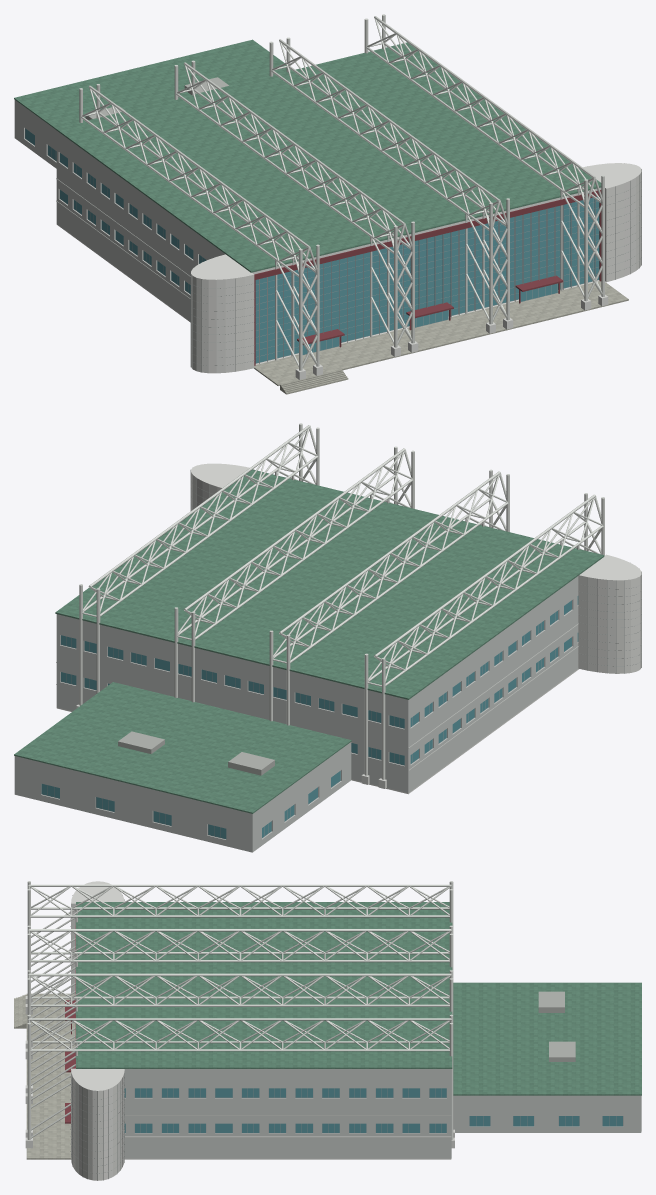
The picture shows the model from 3 angles, top to bottom: view 1: azimuth 30°, elevation 25°; view 2: azimuth 150°, elevation 25°; view 3: azimuth 270°, elevation 25°; orthographic projection. The views are drawn at different scales.
Visible parts, largest first — view 1: gym__roof, gym__steel, gym__glass, gym__stone, gym__wall, gym__threshold-front, gym__frame, gym__red, gym__joint, gym__stair-front; view 2: gym__roof, gym__wall, gym__steel, gym__stone, gym__glass, gym__frame, gym__plantwall, gym__joint; view 3: gym__roof, gym__steel, gym__wall, gym__stone, gym__threshold-front, gym__glass, gym__frame, gym__joint, gym__plantwall, gym__red.
Boxes of the visible parts, x1,y1,x2,y2 form: gym__roof: [14, 39, 601, 272]; gym__steel: [56, 14, 604, 370]; gym__glass: [25, 128, 599, 363]; gym__stone: [56, 163, 641, 379]; gym__wall: [14, 100, 225, 321]; gym__threshold-front: [254, 281, 628, 385]; gym__frame: [25, 128, 598, 363]; gym__red: [254, 190, 601, 365]; gym__joint: [190, 169, 641, 372]; gym__stair-front: [280, 369, 348, 394]; gym__roof: [14, 469, 604, 813]; gym__wall: [14, 576, 578, 852]; gym__steel: [56, 423, 604, 779]; gym__stone: [56, 463, 641, 794]; gym__glass: [41, 596, 578, 838]; gym__frame: [41, 600, 572, 839]; gym__plantwall: [118, 731, 274, 775]; gym__joint: [190, 470, 641, 673]; gym__roof: [76, 902, 641, 1095]; gym__steel: [27, 881, 453, 1139]; gym__wall: [124, 1069, 641, 1158]; gym__stone: [25, 881, 454, 1180]; gym__threshold-front: [26, 993, 75, 1159]; gym__glass: [124, 1088, 622, 1132]; gym__frame: [125, 1088, 623, 1133]; gym__joint: [70, 895, 124, 1180]; gym__plantwall: [538, 991, 575, 1061]; gym__red: [65, 926, 75, 1123].
Size of the model in its own units: 94.1 by 27.13 by 119.
Materials: 11 (3 with a texture image).
